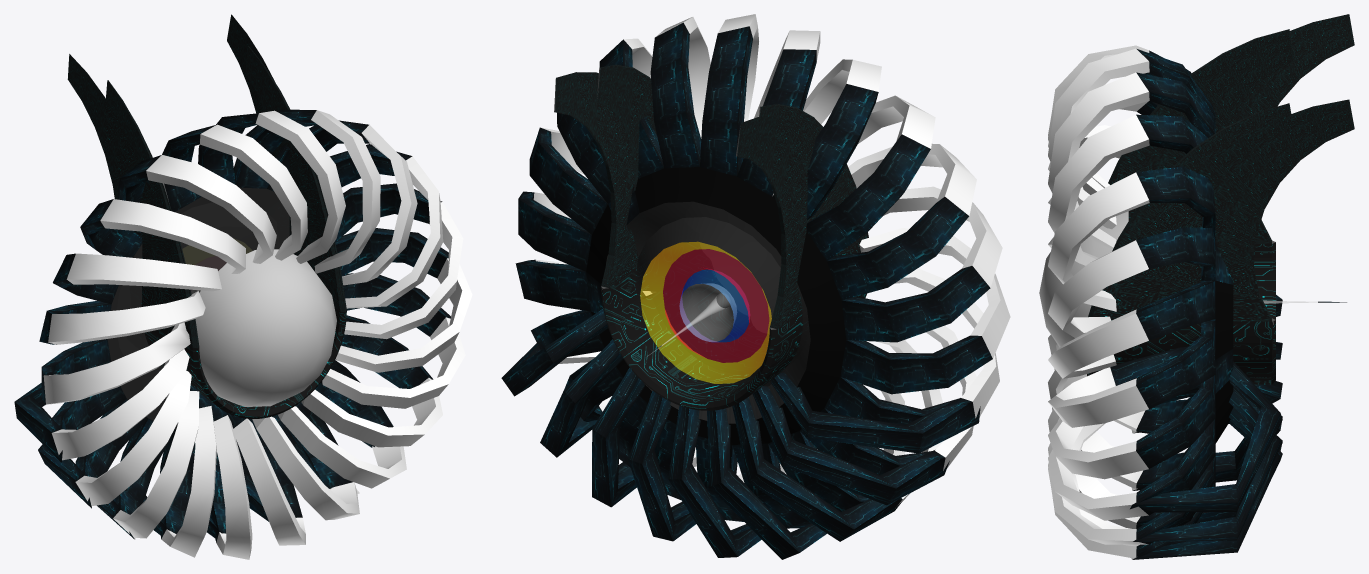
Rendered from space time ship.dae.
3 renders of one model, left to right at view 1: azimuth 30°, elevation 25°; view 2: azimuth 150°, elevation 25°; view 3: azimuth 270°, elevation 25°, orthographic. The views are drawn at different scales.
Parts seen in each view (by area): view 1: Estrusione_NURBS.1, Sfera, Tubo; view 2: Estrusione_NURBS.1, Tubo; view 3: Estrusione_NURBS.1, Tubo, Sfera.
Part boxes in pixels (x1=…): Estrusione_NURBS.1: x1=14, y1=109, x2=472, y2=559; Sfera: x1=195, y1=249, x2=336, y2=406; Tubo: x1=67, y1=14, x2=346, y2=418; Estrusione_NURBS.1: x1=501, y1=14, x2=1010, y2=559; Tubo: x1=554, y1=64, x2=868, y2=410; Estrusione_NURBS.1: x1=1048, y1=45, x2=1346, y2=559; Tubo: x1=1087, y1=14, x2=1354, y2=384; Sfera: x1=1039, y1=211, x2=1128, y2=347.
Bounding box in the file's own units: 722 × 744 × 444.
